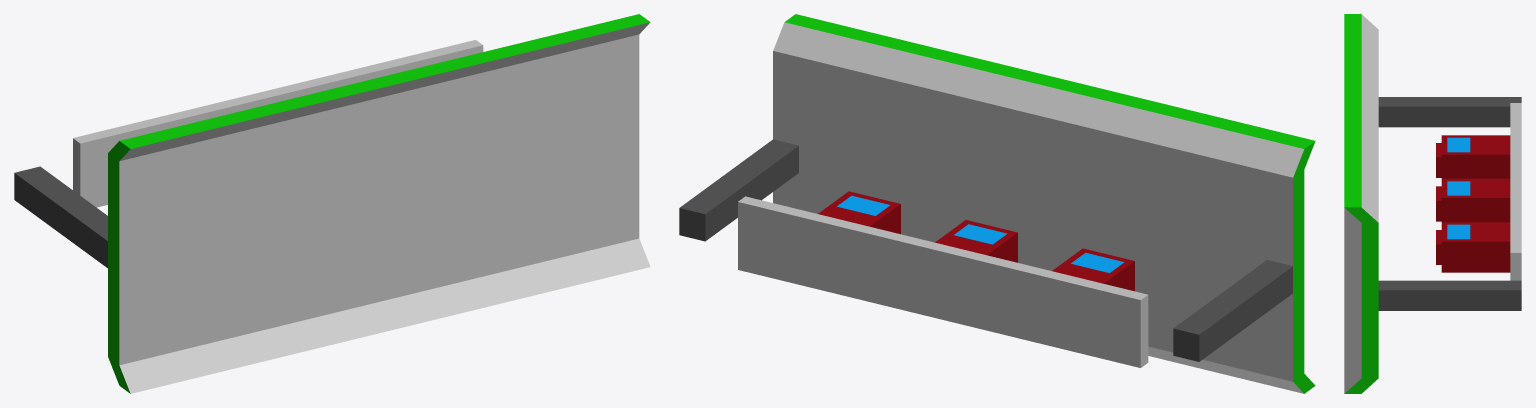
File: gas_station.dae
3 renders of one model, left to right at view 1: azimuth 30°, elevation 25°; view 2: azimuth 150°, elevation 25°; view 3: azimuth 270°, elevation 25°, orthographic. The views are drawn at different scales.
Parts seen in each view (by area): view 1: coords_ME_ID95_MA_material_11, coords_ME_ID113_MA_material_4, coords_ME_ID29_MA_material_11, coords_ME_ID87_MA_material; view 2: coords_ME_ID101_MA_material_11, coords_ME_ID29_MA_material_11, coords_ME_ID113_MA_material_4, coords_ME_ID87_MA_material, coords_ME_ID107_MA_material, coords_ME_ID23_MA_material_7, coords_ME_ID37_MA_material_7, coords_ME_ID11_MA_material_7, coords_ME_ID81_MA_material_6, coords_ME_ID49_MA_material_6, coords_ME_ID75_MA_material_6; view 3: coords_ME_ID113_MA_material_4, coords_ME_ID107_MA_material, coords_ME_ID87_MA_material, coords_ME_ID101_MA_material_11, coords_ME_ID37_MA_material_7, coords_ME_ID95_MA_material_11, coords_ME_ID11_MA_material_7, coords_ME_ID23_MA_material_7, coords_ME_ID29_MA_material_11, coords_ME_ID81_MA_material_6, coords_ME_ID75_MA_material_6, coords_ME_ID49_MA_material_6 (+3 smaller).
Part boxes in pixels (x1=…): coords_ME_ID95_MA_material_11: x1=119, y1=22, x2=650, y2=393; coords_ME_ID113_MA_material_4: x1=108, y1=14, x2=650, y2=393; coords_ME_ID29_MA_material_11: x1=73, y1=40, x2=483, y2=207; coords_ME_ID87_MA_material: x1=14, y1=166, x2=107, y2=268; coords_ME_ID101_MA_material_11: x1=773, y1=22, x2=1304, y2=393; coords_ME_ID29_MA_material_11: x1=738, y1=196, x2=1148, y2=367; coords_ME_ID113_MA_material_4: x1=785, y1=14, x2=1315, y2=393; coords_ME_ID87_MA_material: x1=1173, y1=260, x2=1292, y2=361; coords_ME_ID107_MA_material: x1=679, y1=139, x2=798, y2=241; coords_ME_ID23_MA_material_7: x1=1052, y1=248, x2=1134, y2=291; coords_ME_ID37_MA_material_7: x1=818, y1=191, x2=900, y2=234; coords_ME_ID11_MA_material_7: x1=935, y1=220, x2=1017, y2=262; coords_ME_ID81_MA_material_6: x1=837, y1=195, x2=890, y2=215; coords_ME_ID49_MA_material_6: x1=954, y1=224, x2=1006, y2=244; coords_ME_ID75_MA_material_6: x1=1071, y1=252, x2=1124, y2=272; coords_ME_ID113_MA_material_4: x1=1344, y1=14, x2=1378, y2=393; coords_ME_ID107_MA_material: x1=1378, y1=280, x2=1521, y2=310; coords_ME_ID87_MA_material: x1=1378, y1=97, x2=1521, y2=127; coords_ME_ID101_MA_material_11: x1=1361, y1=14, x2=1378, y2=222; coords_ME_ID37_MA_material_7: x1=1441, y1=222, x2=1510, y2=272; coords_ME_ID95_MA_material_11: x1=1344, y1=207, x2=1361, y2=393; coords_ME_ID11_MA_material_7: x1=1441, y1=178, x2=1510, y2=222; coords_ME_ID23_MA_material_7: x1=1441, y1=135, x2=1510, y2=178; coords_ME_ID29_MA_material_11: x1=1510, y1=103, x2=1521, y2=280; coords_ME_ID81_MA_material_6: x1=1447, y1=224, x2=1470, y2=239; coords_ME_ID75_MA_material_6: x1=1447, y1=137, x2=1470, y2=152; coords_ME_ID49_MA_material_6: x1=1447, y1=181, x2=1470, y2=195.
Size of the model in its own units: 126 by 56.69 by 48.82.
